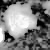node: (4, 6, 40, 37)
